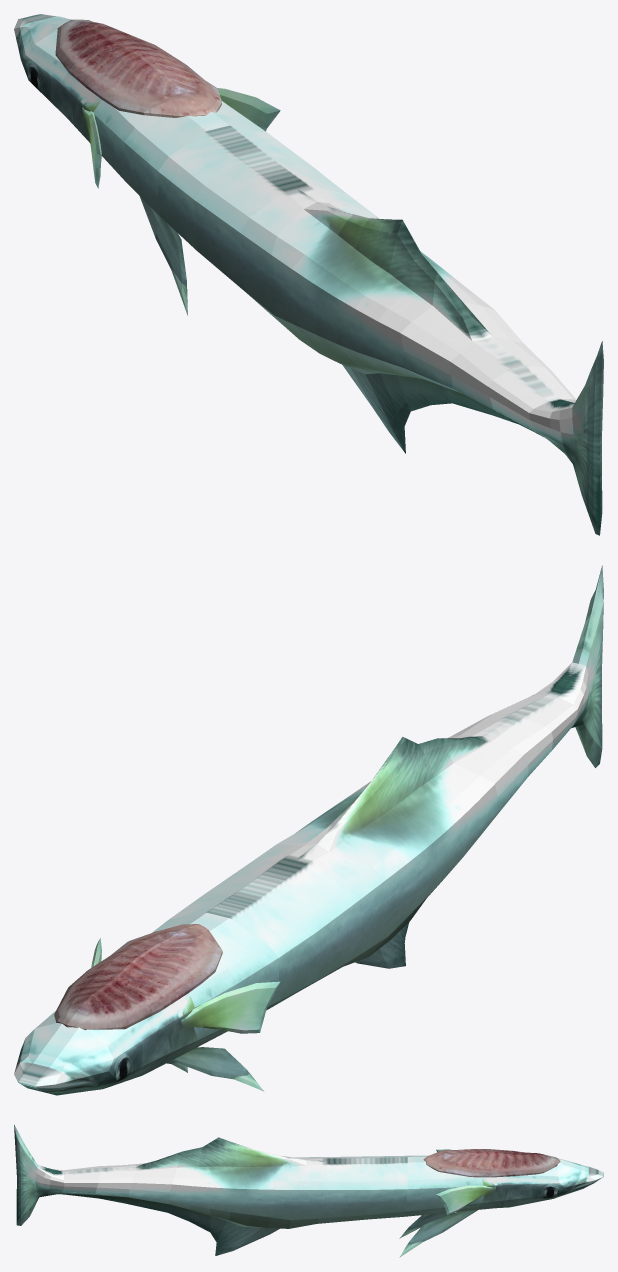
Rendered from remora-albescens.glb.
3 views of the same model, one above another, from view 1: azimuth 30°, elevation 25°; view 2: azimuth 150°, elevation 25°; view 3: azimuth 270°, elevation 25° (orthographic). The views are drawn at different scales.
Parts seen in each view (by area): view 1: white remora, pelvic.l, pectoral.r, pectoral.l; view 2: white remora, pectoral.l, pelvic.l; view 3: white remora, pectoral.r, pelvic.r, pelvic.l.
Part boxes in pixels (x1,y1,x2,y2): white remora: (14, 14, 603, 535); pelvic.l: (139, 196, 187, 315); pectoral.r: (217, 88, 280, 131); pectoral.l: (82, 107, 101, 188); white remora: (14, 565, 603, 1095); pectoral.l: (181, 981, 280, 1033); pelvic.l: (171, 1047, 263, 1091); white remora: (14, 1124, 603, 1255); pectoral.r: (436, 1185, 495, 1215); pelvic.r: (399, 1210, 477, 1257); pelvic.l: (399, 1212, 454, 1238).
Bounding box in the file's own units: 0.0541 × 0.074 × 0.2996.
Materials: 2 (2 with a texture image).
